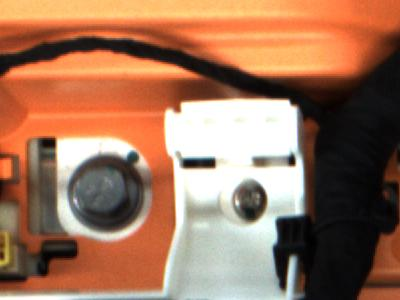nut_b: (69, 153, 151, 227)
